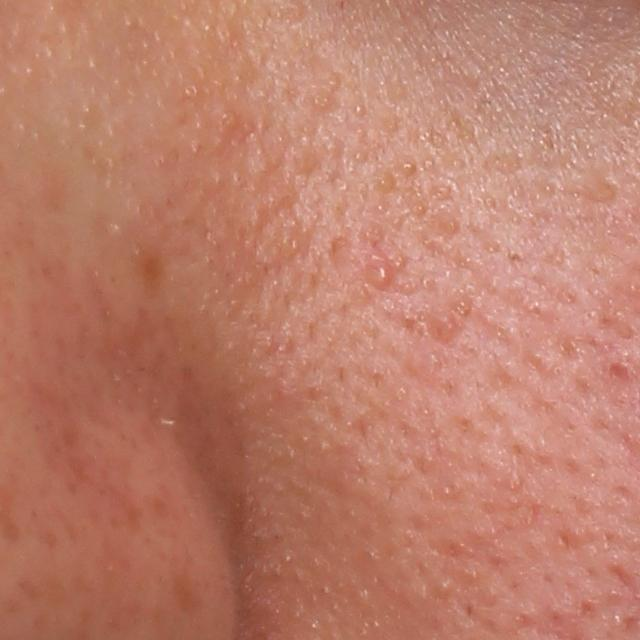comedo: (426, 308, 467, 345), (441, 213, 464, 237), (375, 174, 394, 193), (433, 579, 452, 598), (401, 160, 418, 180), (484, 241, 501, 257), (480, 195, 497, 210), (449, 156, 465, 171), (354, 102, 367, 119), (354, 149, 368, 164), (413, 202, 427, 216), (542, 182, 556, 195)
papule: (366, 256, 400, 296)
